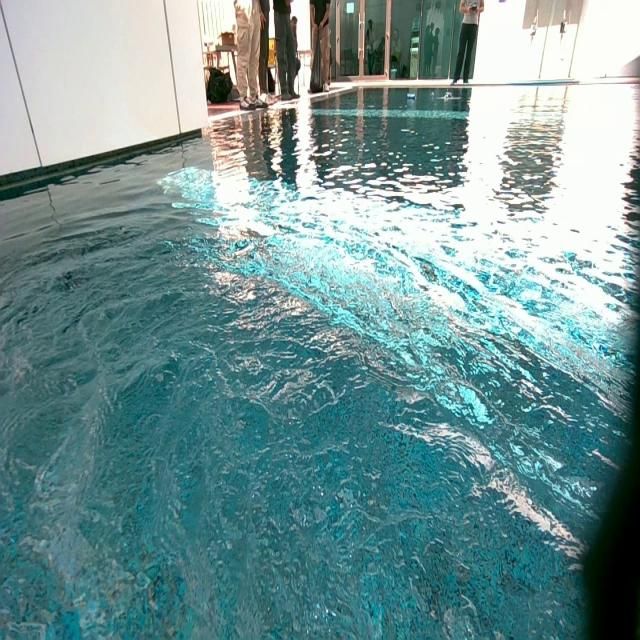Cans: (408, 94, 417, 103), (445, 92, 453, 99), (430, 92, 435, 98)
